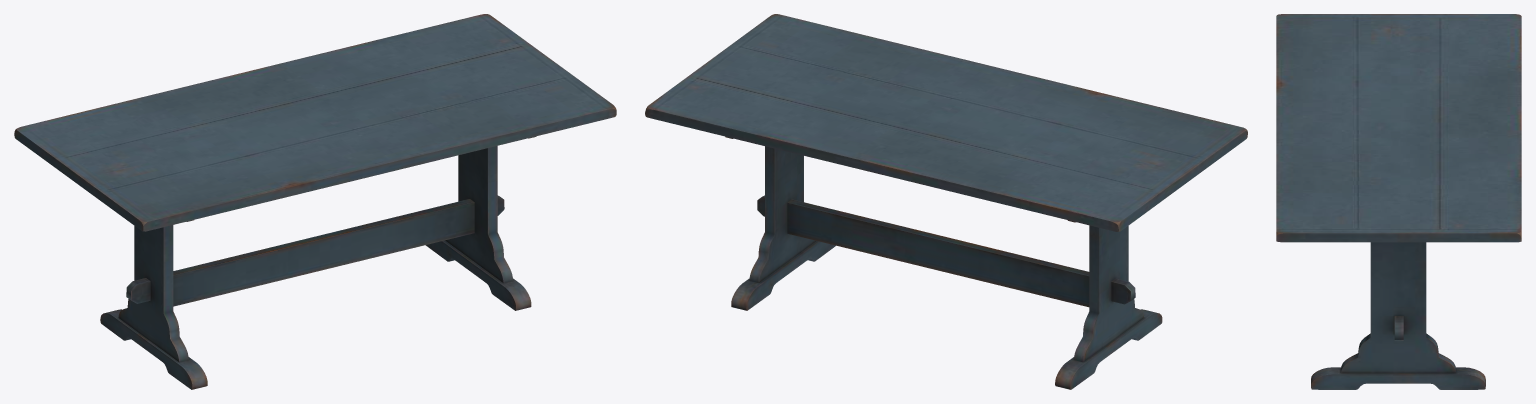
3 renders of one model, left to right at view 1: azimuth 30°, elevation 25°; view 2: azimuth 150°, elevation 25°; view 3: azimuth 270°, elevation 25°, orthographic. The views are drawn at different scales.
Visible parts, largest first — view 1: painted_wooden_table; view 2: painted_wooden_table; view 3: painted_wooden_table.
Boxes of the visible parts, x1,y1,x2,y2 form: painted_wooden_table: [14, 14, 616, 389]; painted_wooden_table: [645, 14, 1247, 389]; painted_wooden_table: [1276, 14, 1521, 389].
Bounding box in the file's own units: 2.41 × 0.9586 × 1.14.
Materials: 1 (1 with a texture image).
